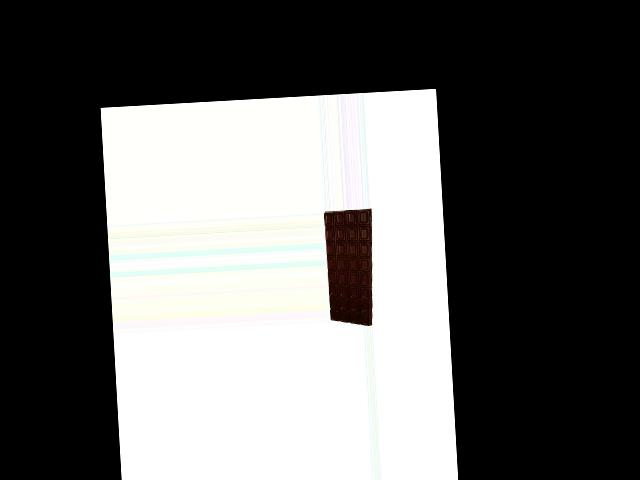chocolate: (323, 207, 376, 329)
